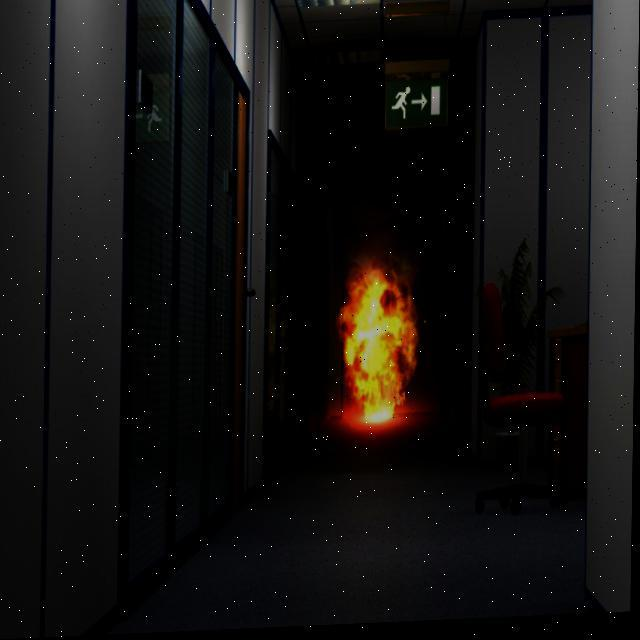Fire: (342, 256, 422, 433)
